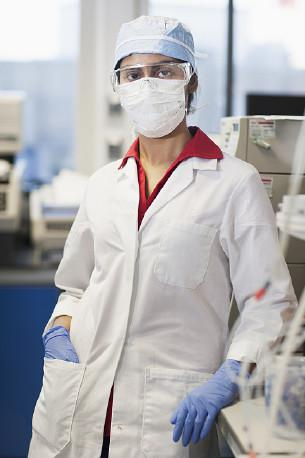OK: (114, 59, 192, 137)
